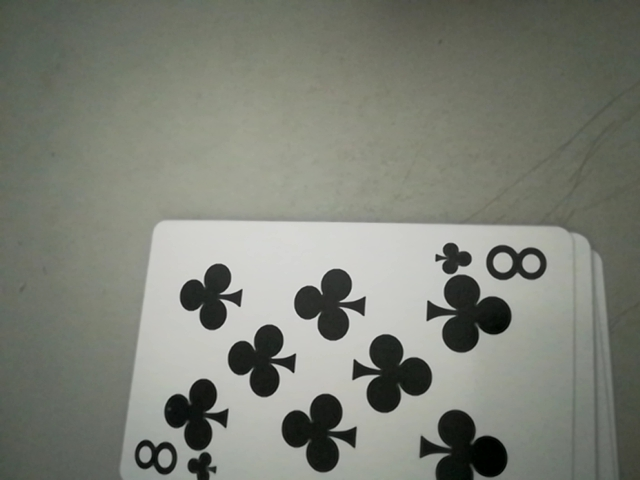mh 8: (434, 236, 552, 284), (130, 438, 215, 480)
